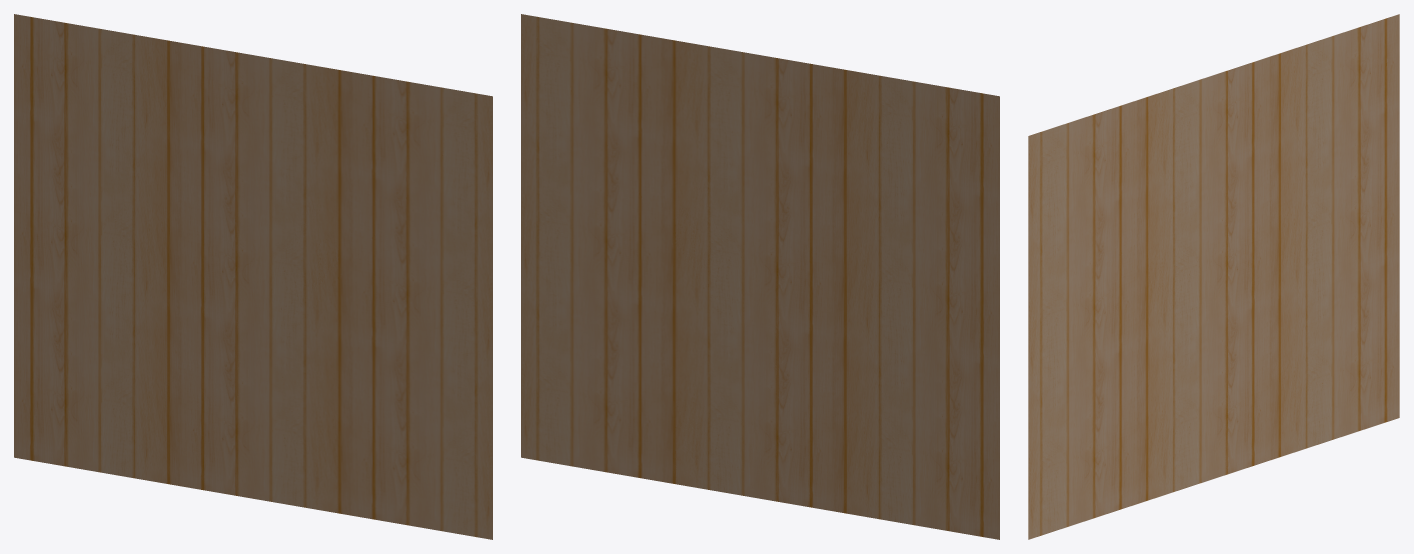
File: Sciana_wyjsciowa.fbx
3 renders of one model, left to right at view 1: azimuth 30°, elevation 25°; view 2: azimuth 210°, elevation 25°; view 3: azimuth 270°, elevation 25°, orthographic. The views are drawn at different scales.
Visible parts, largest first — view 1: Szkłowyjście; view 2: Szkłowyjście; view 3: Szkłowyjście.
Boxes of the visible parts, left/top/right/bottom form: Szkłowyjście: left=14, top=14, right=492, bottom=539; Szkłowyjście: left=521, top=14, right=999, bottom=539; Szkłowyjście: left=1028, top=14, right=1399, bottom=539.
Size of the model in its own units: 2.22 by 3.42 by 2.86.
